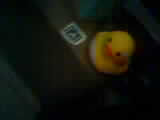duck: (91, 26, 124, 69)
